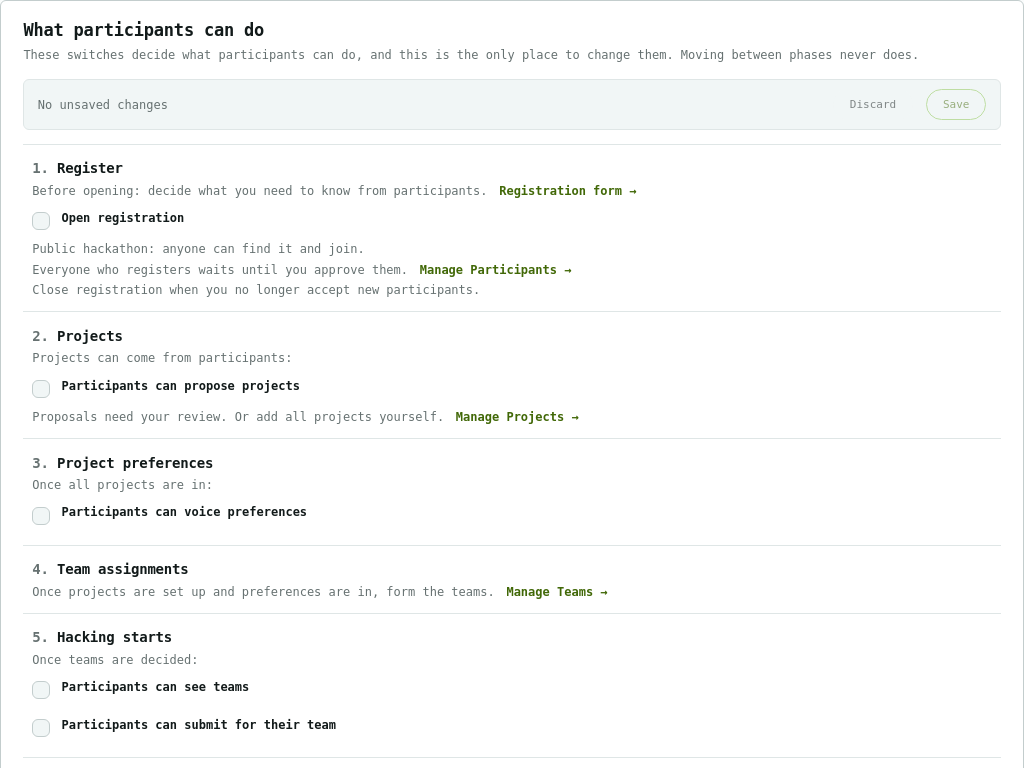
CapabilitiesPanel › unsaved changes › is clean again once a switch is put back by hand
What coordinates should you click on to do the following:
click the checkbox labelled "Open registration"
I would click on:
 (41, 221)
Its box is [32,212,50,230].
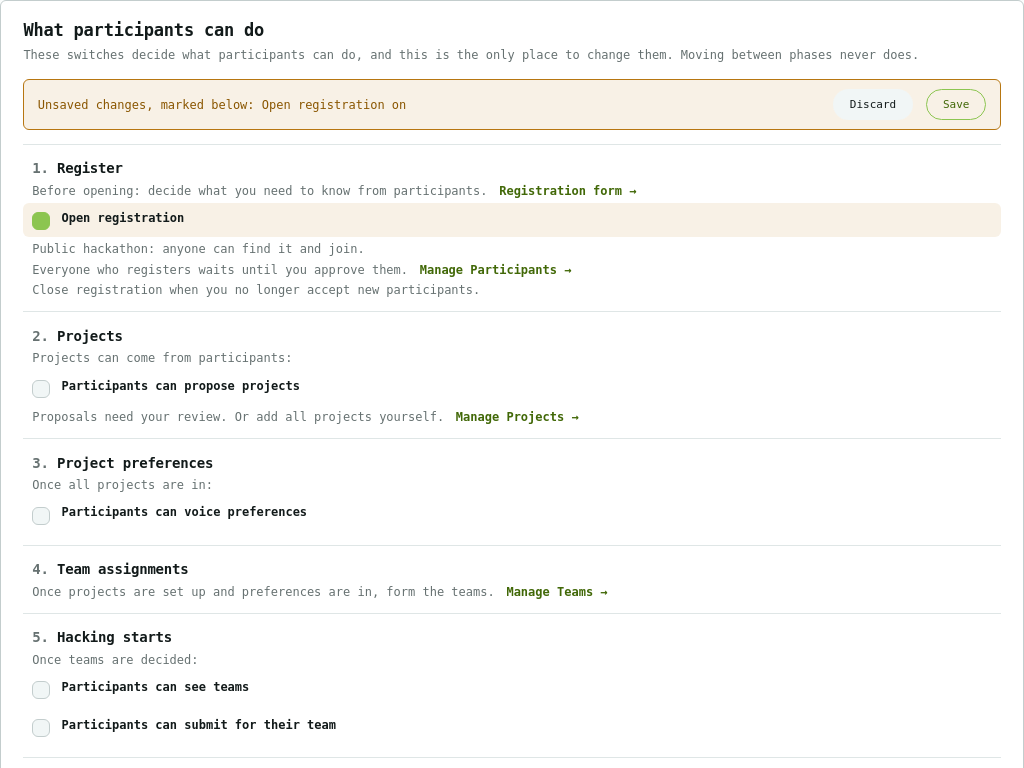
What coordinates should you click on to do the following:
click the checkbox labelled "Open registration"
I would click on:
 (41, 221)
Its box is [32,212,50,230].
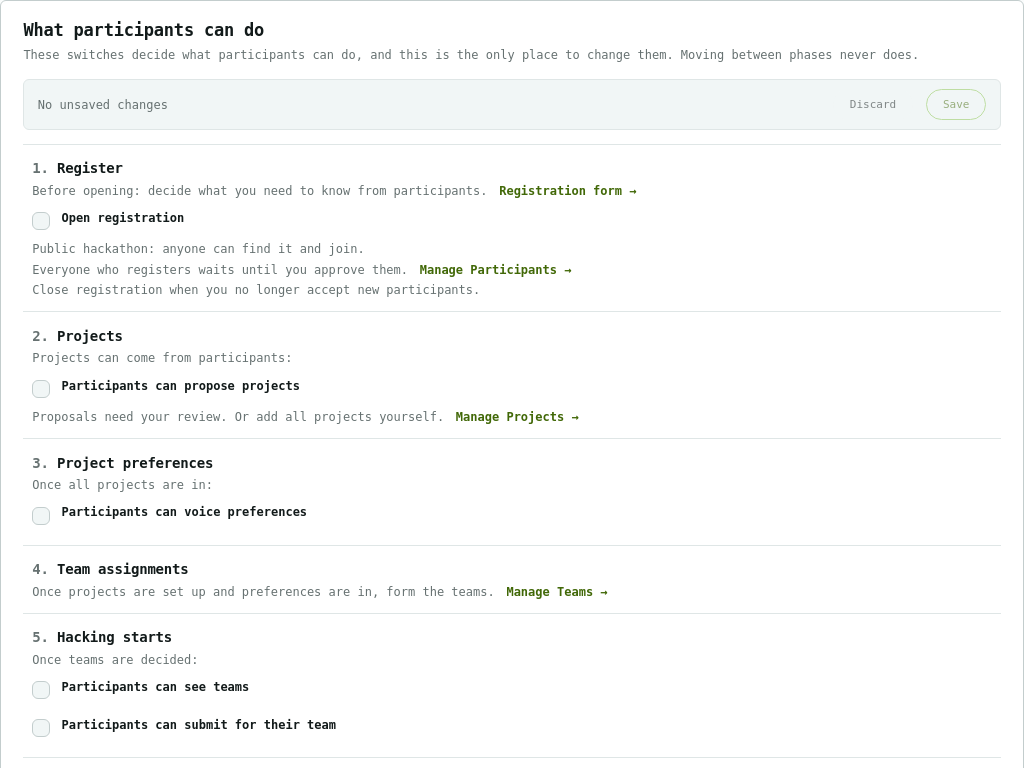
Expected: the message shows "No unsaved changes", [38,98,168,112]
